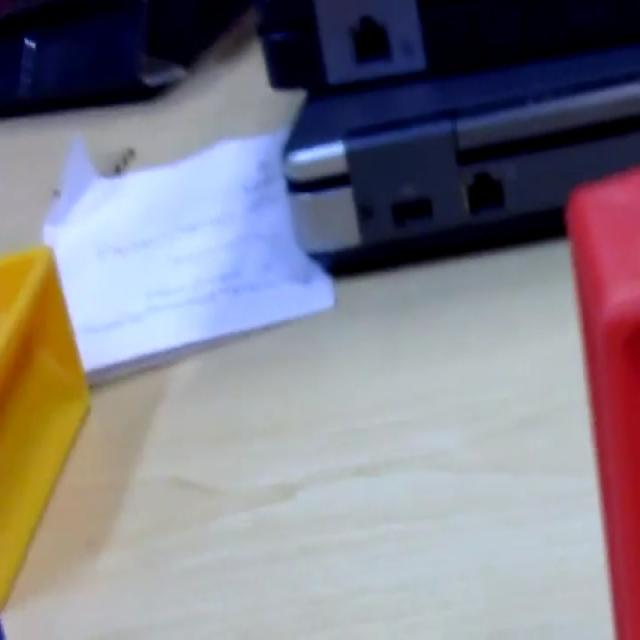red_block: (564, 163, 638, 636)
yellow_block: (0, 241, 92, 612)
